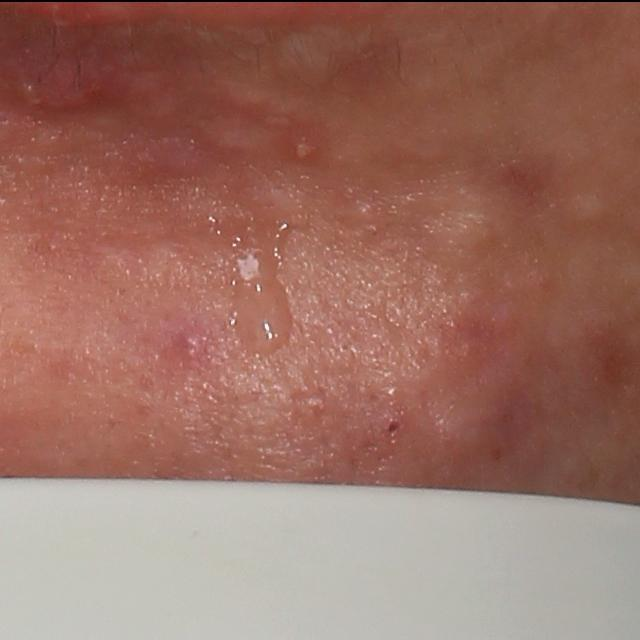hypertrophic_scar: (423, 173, 502, 261), (267, 32, 344, 97), (248, 178, 315, 232), (203, 120, 281, 162), (219, 79, 280, 115), (566, 192, 608, 229)
papule: (9, 48, 110, 117), (366, 404, 415, 451), (171, 328, 209, 368)
pustule: (286, 121, 328, 167)
